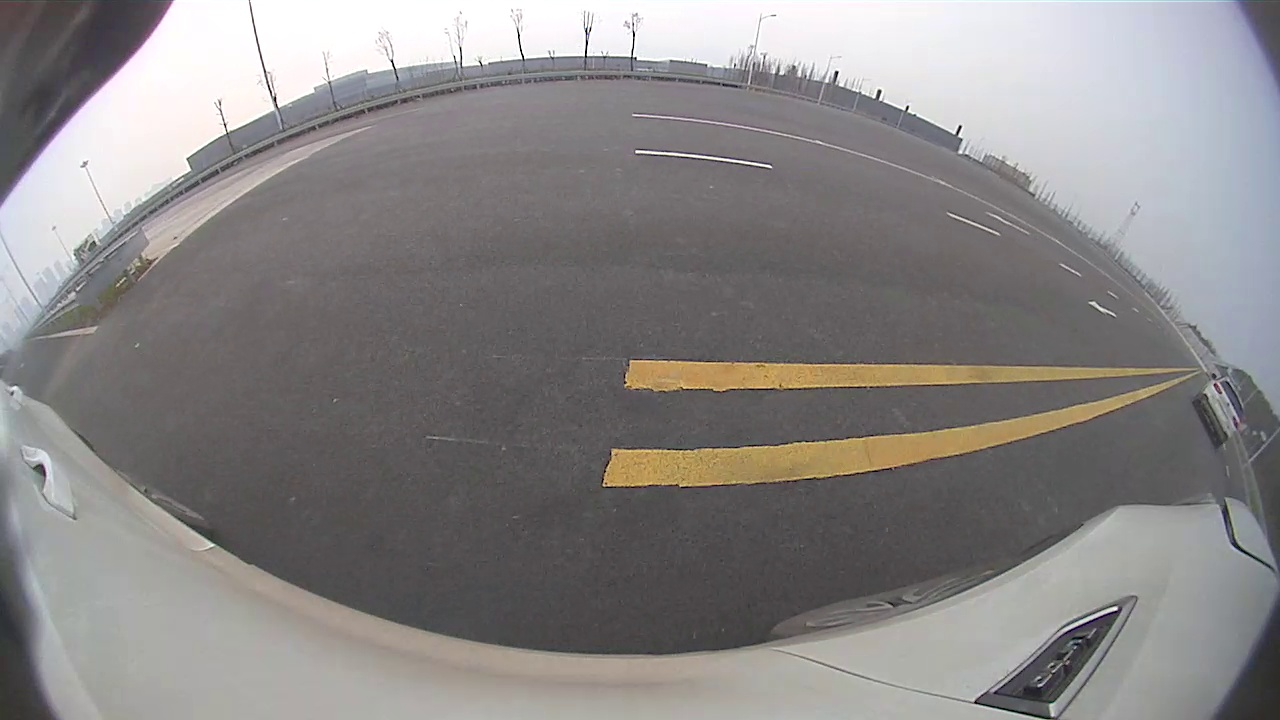car: (518, 132, 628, 218)
rear: (605, 177, 618, 210)
